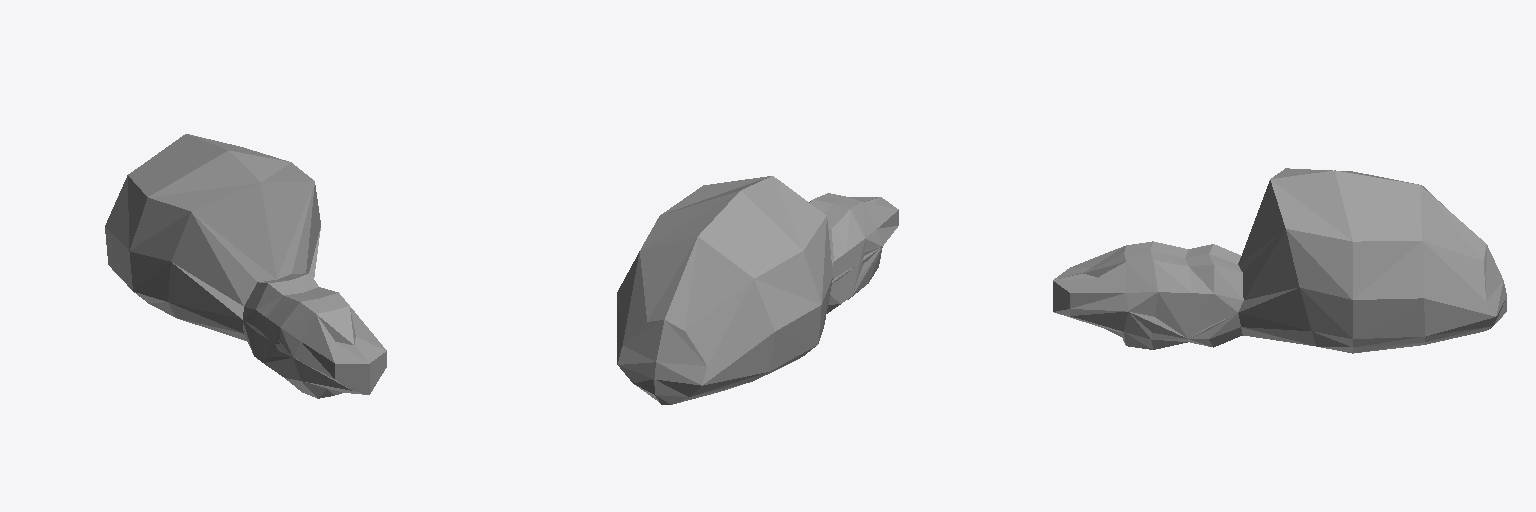
Rendered from black_widow_abdomen.obj.
3 renders of one model, left to right at view 1: azimuth 30°, elevation 25°; view 2: azimuth 150°, elevation 25°; view 3: azimuth 270°, elevation 25°, orthographic.
Visible parts, largest first — view 1: initialShadingGroup_SpiderHalf2; view 2: initialShadingGroup_SpiderHalf2; view 3: initialShadingGroup_SpiderHalf2.
Boxes of the visible parts, x1=… form: initialShadingGroup_SpiderHalf2: x1=105, y1=134, x2=386, y2=398; initialShadingGroup_SpiderHalf2: x1=617, y1=176, x2=898, y2=404; initialShadingGroup_SpiderHalf2: x1=1053, y1=168, x2=1506, y2=353.
Size of the model in its own units: 3.82 by 3.46 by 8.34.